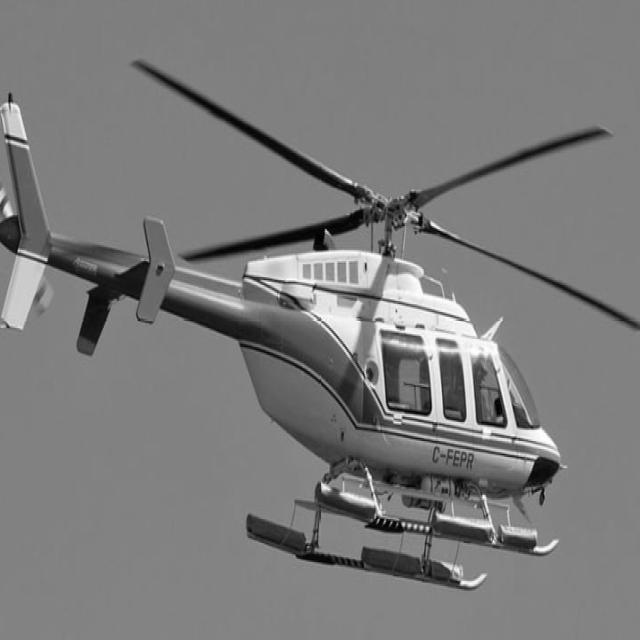helicopter: (1, 60, 640, 590)
